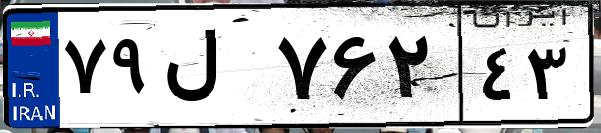2: (385, 28, 445, 110)
3: (525, 38, 570, 115)
4: (475, 38, 525, 113)
6: (330, 28, 385, 110)
7: (270, 28, 330, 110), (57, 26, 110, 100)
9: (110, 28, 158, 98)
ل: (158, 20, 270, 120)
